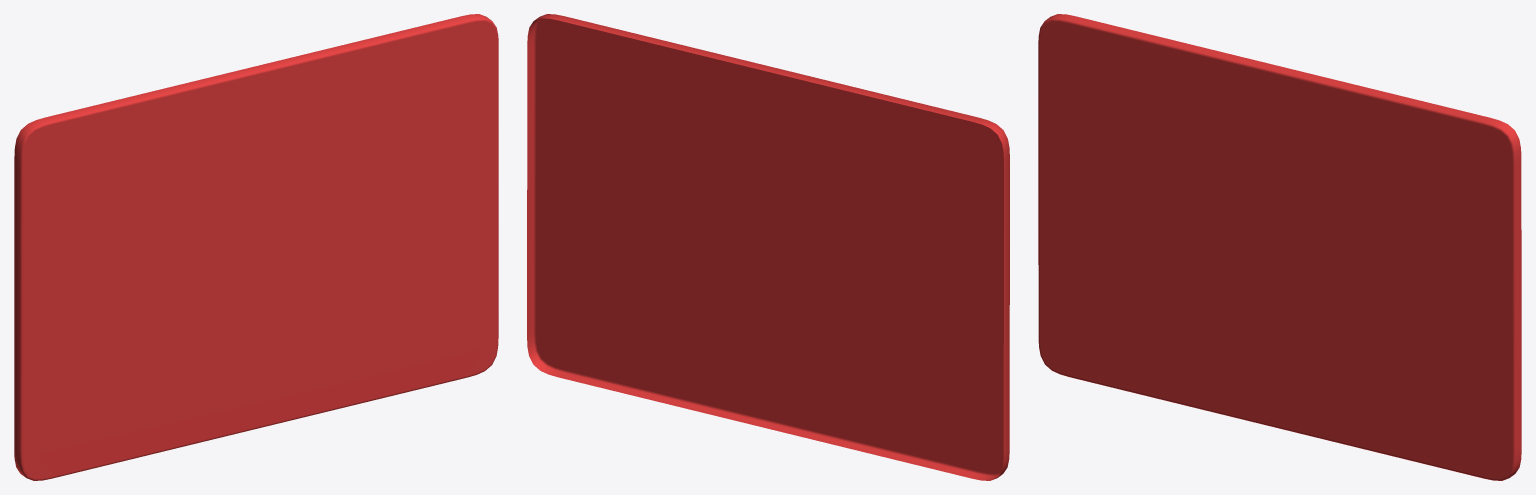
Rendered from LCDScreen_Mesh.fbx.
3 renders of one model, left to right at view 1: azimuth 30°, elevation 25°; view 2: azimuth 150°, elevation 25°; view 3: azimuth 330°, elevation 25°, orthographic.
Parts seen in each view (by area): view 1: LCDScreen_Mesh; view 2: LCDScreen_Mesh; view 3: LCDScreen_Mesh.
Part boxes in pixels (x1,y1,x2,y2): LCDScreen_Mesh: [14, 14, 498, 480]; LCDScreen_Mesh: [527, 14, 1009, 480]; LCDScreen_Mesh: [1038, 14, 1521, 480].
Size of the model in its own units: 100 by 71.43 by 2.65.
